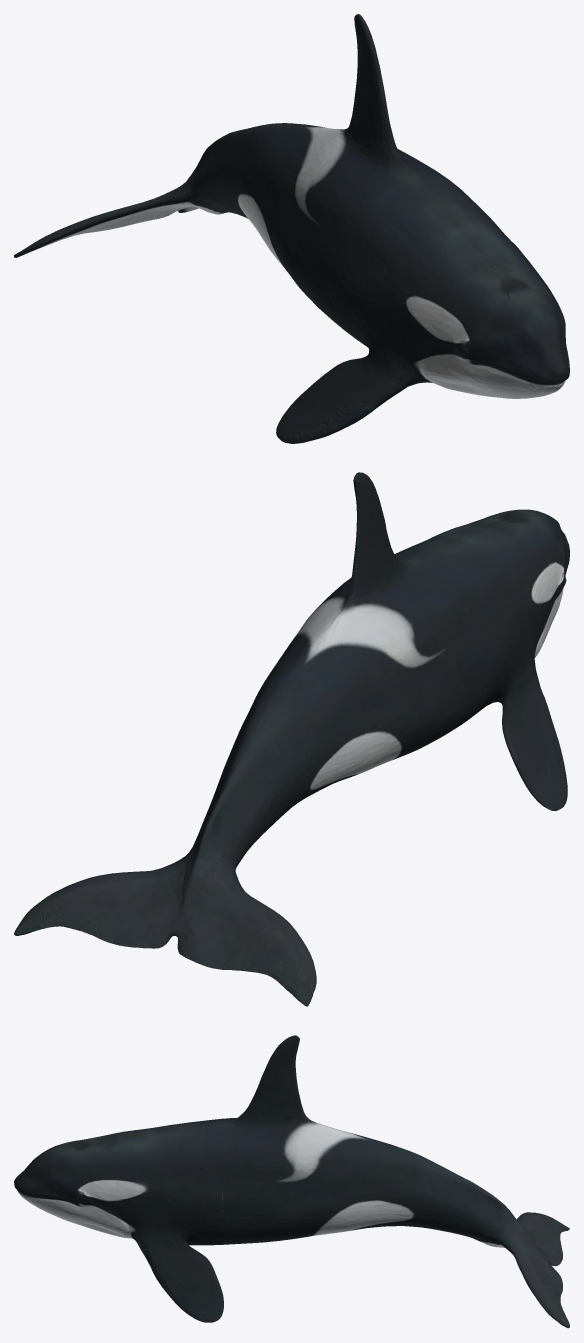
File: orca.glb
The picture shows the model from 3 angles, top to bottom: view 1: azimuth 30°, elevation 25°; view 2: azimuth 150°, elevation 25°; view 3: azimuth 270°, elevation 25°; orthographic projection. The views are drawn at different scales.
Visible parts, largest first — view 1: geometry_0; view 2: geometry_0; view 3: geometry_0.
Part boxes in pixels (x1,y1,x2,y2): geometry_0: (14,14,569,443); geometry_0: (14,472,569,1006); geometry_0: (14,1035,569,1328).
Size of the model in its own units: 0.423 by 0.484 by 1.
1 material, 1 textured.
